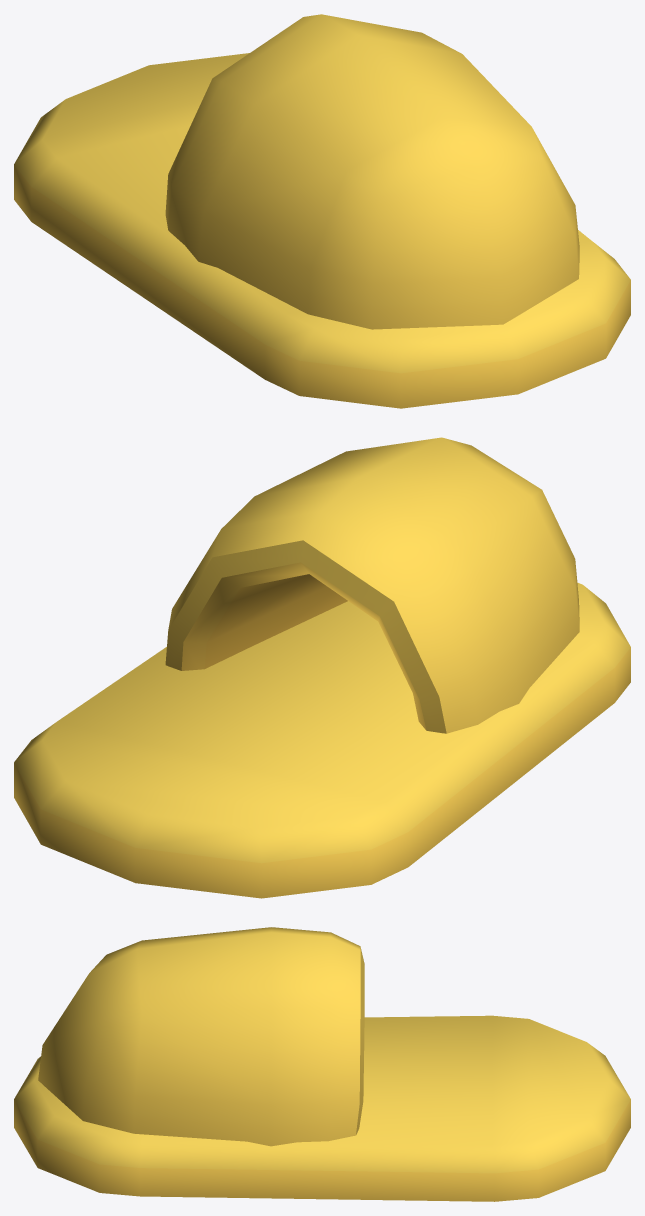
Rendered from Slippers.glb.
3 renders of one model, top to bottom at view 1: azimuth 30°, elevation 25°; view 2: azimuth 150°, elevation 25°; view 3: azimuth 270°, elevation 25°, orthographic. The views are drawn at different scales.
Parts seen in each view (by area): view 1: slippers.007; view 2: slippers.007; view 3: slippers.007.
Part boxes in pixels (x1,y1,x2,y2): slippers.007: (14,14,630,408); slippers.007: (14,437,630,898); slippers.007: (14,927,630,1201).
Bounding box in the file's own units: 0.3354 × 0.2058 × 0.5898.
Materials: 1 (1 with a texture image).
